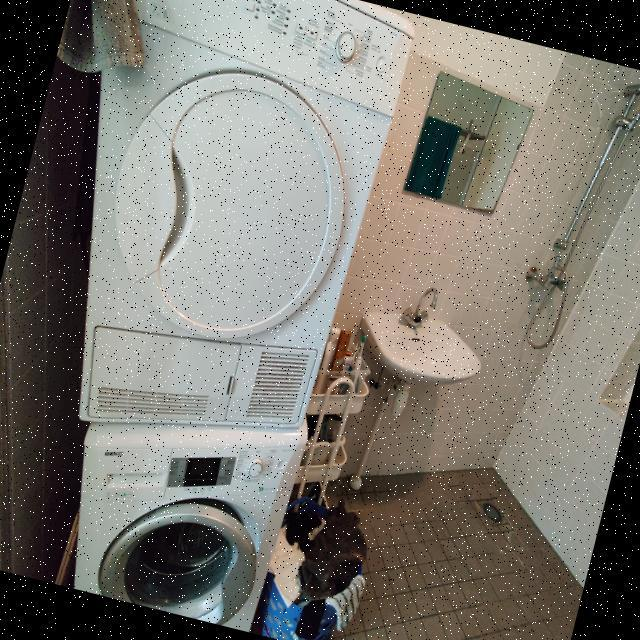douche: (434, 50, 640, 588)
wastafel: (337, 268, 499, 437)
